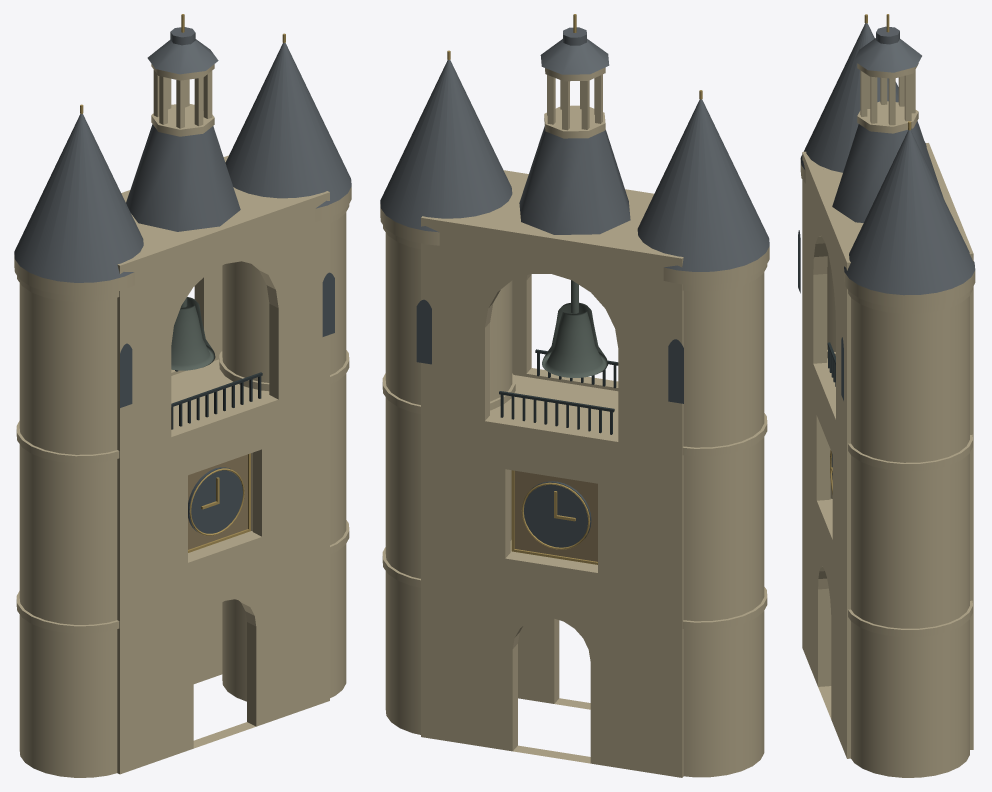
The model's file is grosse-cloche-bordeaux-near.glb.
3 renders of one model, left to right at view 1: azimuth 30°, elevation 25°; view 2: azimuth 150°, elevation 25°; view 3: azimuth 270°, elevation 25°, orthographic. The views are drawn at different scales.
Parts seen in each view (by area): view 1: grosse-cloche-bordeaux-0-plaster, grosse-cloche-bordeaux-0-roof, grosse-cloche-bordeaux-0-glass, grosse-cloche-bordeaux-0-bell, grosse-cloche-bordeaux-0-trim, grosse-cloche-bordeaux-0-shadow, grosse-cloche-bordeaux-0-gold; view 2: grosse-cloche-bordeaux-0-plaster, grosse-cloche-bordeaux-0-roof, grosse-cloche-bordeaux-0-glass, grosse-cloche-bordeaux-0-bell, grosse-cloche-bordeaux-0-trim, grosse-cloche-bordeaux-0-shadow, grosse-cloche-bordeaux-0-gold; view 3: grosse-cloche-bordeaux-0-plaster, grosse-cloche-bordeaux-0-roof, grosse-cloche-bordeaux-0-glass.
Part boxes in pixels (x1=…): grosse-cloche-bordeaux-0-plaster: x1=14, y1=64, x2=351, y2=777; grosse-cloche-bordeaux-0-roof: x1=14, y1=27, x2=351, y2=282; grosse-cloche-bordeaux-0-glass: x1=120, y1=272, x2=334, y2=533; grosse-cloche-bordeaux-0-bell: x1=171, y1=297, x2=215, y2=370; grosse-cloche-bordeaux-0-trim: x1=188, y1=454, x2=247, y2=549; grosse-cloche-bordeaux-0-shadow: x1=171, y1=370, x2=262, y2=429; grosse-cloche-bordeaux-0-gold: x1=80, y1=14, x2=285, y2=552; grosse-cloche-bordeaux-0-plaster: x1=380, y1=67, x2=769, y2=777; grosse-cloche-bordeaux-0-roof: x1=380, y1=27, x2=769, y2=271; grosse-cloche-bordeaux-0-glass: x1=416, y1=299, x2=683, y2=547; grosse-cloche-bordeaux-0-bell: x1=542, y1=280, x2=607, y2=377; grosse-cloche-bordeaux-0-trim: x1=514, y1=470, x2=597, y2=561; grosse-cloche-bordeaux-0-shadow: x1=499, y1=349, x2=618, y2=434; grosse-cloche-bordeaux-0-gold: x1=447, y1=14, x2=702, y2=564; grosse-cloche-bordeaux-0-plaster: x1=800, y1=63, x2=975, y2=777; grosse-cloche-bordeaux-0-roof: x1=800, y1=23, x2=975, y2=295; grosse-cloche-bordeaux-0-glass: x1=798, y1=230, x2=843, y2=479.
Bounding box in the file's own units: 20.38 × 40 × 9.52.
